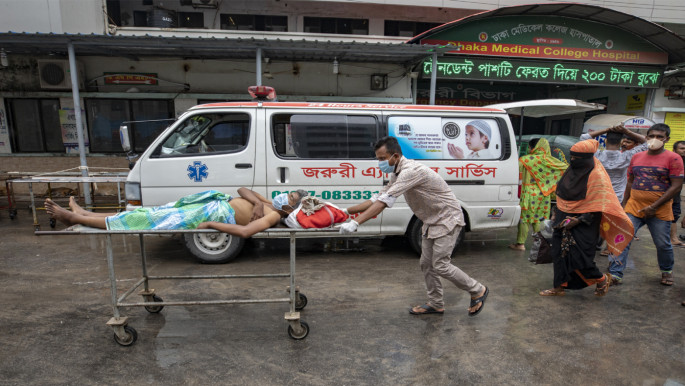ambulance: (122, 85, 521, 264)
